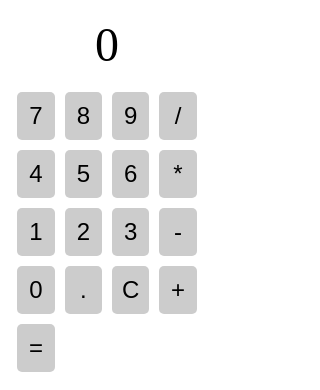
Test: Testes da Calculator › Deve renderizar corretamente o resultado da operacao após clicar no =
This screenshot has width=320, height=390.
Click the button "5".
click(83, 174)  # box [65,150,102,198]
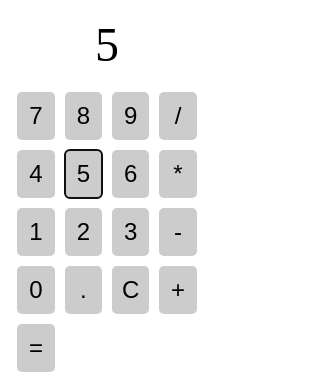
Click the button "*".
click(178, 174)  # box [159,150,197,198]
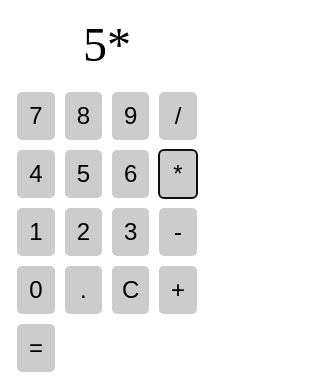
Click the button "2".
click(83, 232)  # box [65,208,102,256]
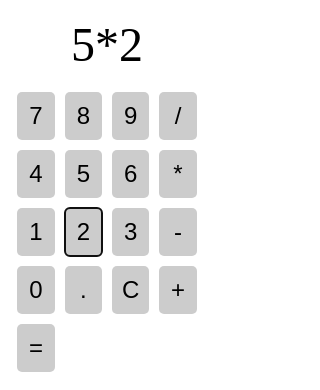
Click the button "=".
click(36, 348)  # box [17,324,55,372]
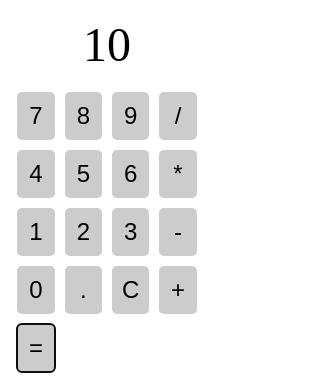
Expected: the text "10" is shown, [83,16,131,72]
